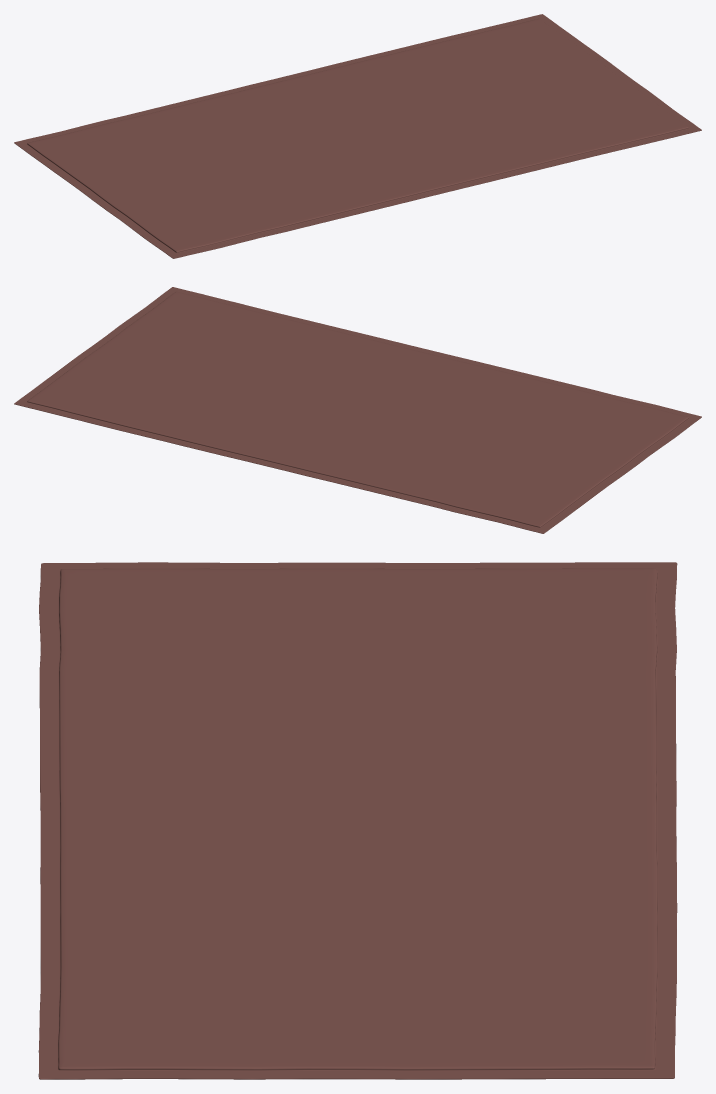
The model's file is Carpet.fbx.
3 renders of one model, top to bottom at view 1: azimuth 30°, elevation 25°; view 2: azimuth 150°, elevation 25°; view 3: azimuth 270°, elevation 25°, orthographic. The views are drawn at different scales.
Parts seen in each view (by area): view 1: Carpet; view 2: Carpet; view 3: Carpet.
Boxes of the visible parts, x1,y1,x2,y2 form: Carpet: [14, 14, 701, 258]; Carpet: [14, 287, 701, 533]; Carpet: [38, 562, 677, 1079].
Size of the model in its own units: 451 by 1.47 by 235.
